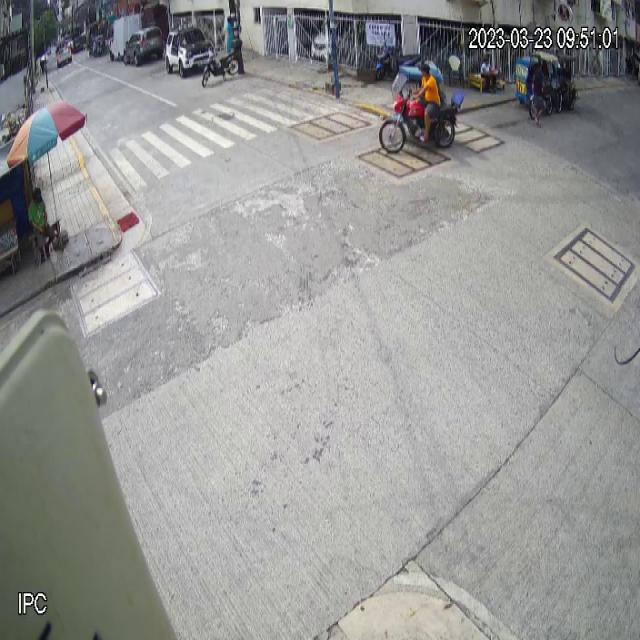Tricycle: (378, 63, 464, 156)
